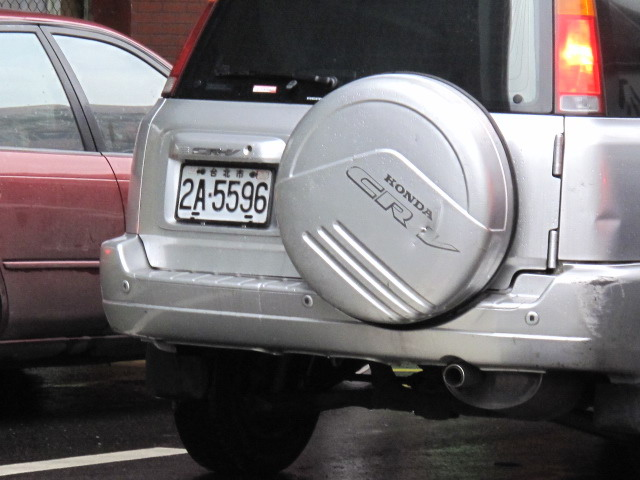plate: (176, 160, 274, 229)
